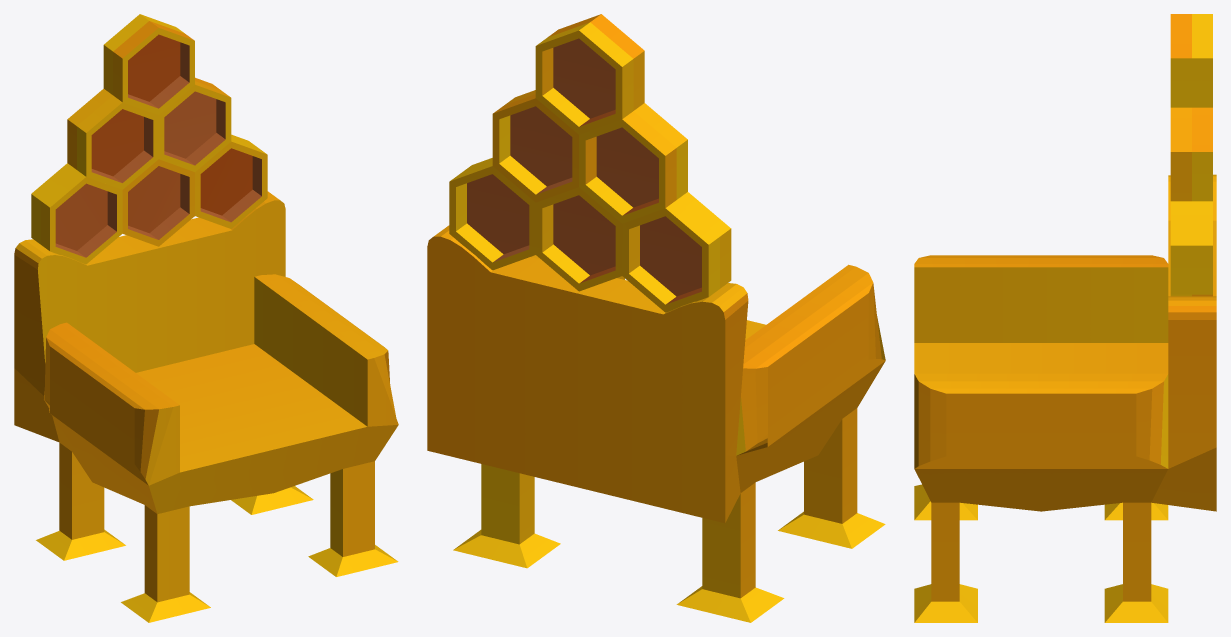
Rendered from Throne.fbx.
The picture shows the model from 3 angles, left to right: view 1: azimuth 30°, elevation 25°; view 2: azimuth 150°, elevation 25°; view 3: azimuth 270°, elevation 25°; orthographic projection. The views are drawn at different scales.
Visible parts, largest first — view 1: Throne_LOD0; view 2: Throne_LOD0; view 3: Throne_LOD0.
Part boxes in pixels (x1,y1,x2,y2): Throne_LOD0: (14,14,398,622); Throne_LOD0: (427,14,885,622); Throne_LOD0: (914,14,1216,622).
Size of the model in its own units: 91.5 by 168 by 85.37.
